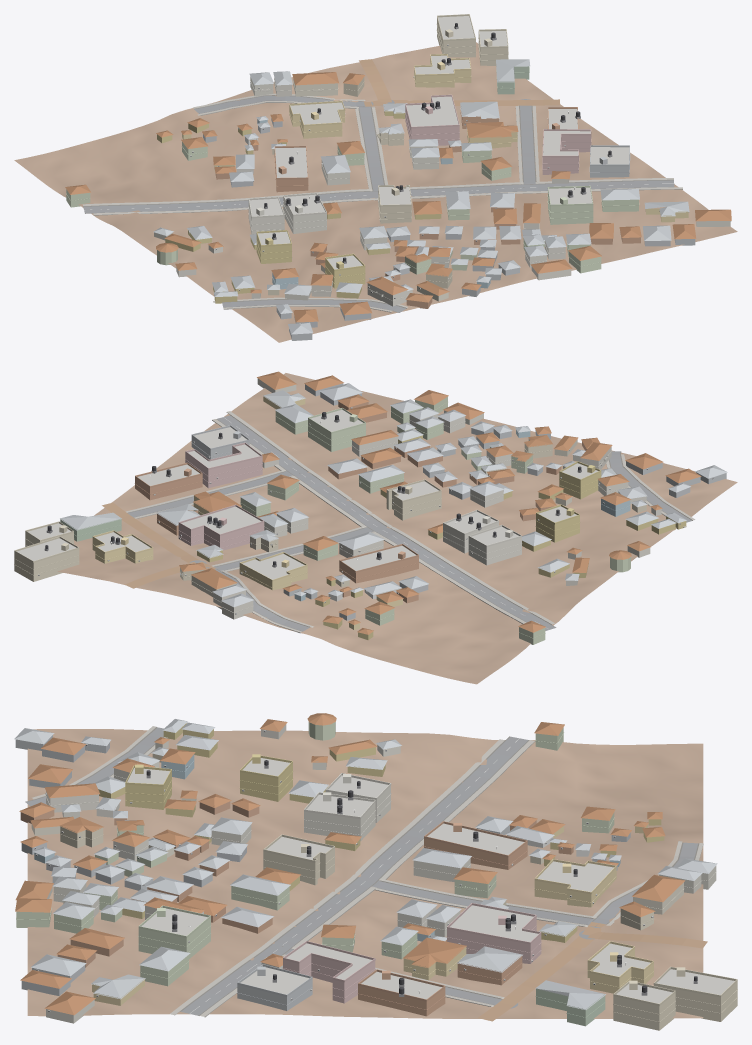
The picture shows the model from 3 angles, top to bottom: view 1: azimuth 30°, elevation 25°; view 2: azimuth 150°, elevation 25°; view 3: azimuth 270°, elevation 25°; orthographic projection. The views are drawn at different scales.
Visible parts, largest first — view 1: Buildings-col, Terrain-col, Roads-col, Details, Sidewalks-col; view 2: Buildings-col, Terrain-col, Details, Roads-col, Sidewalks-col; view 3: Buildings-col, Terrain-col, Roads-col, Details, Sidewalks-col.
Part boxes in pixels (x1,y1,x2,y2): Buildings-col: (65, 16, 731, 340); Terrain-col: (14, 42, 737, 342); Roads-col: (83, 59, 674, 312); Details: (66, 14, 731, 328); Sidewalks-col: (82, 93, 682, 312); Buildings-col: (14, 371, 727, 644); Terrain-col: (57, 373, 737, 684); Details: (14, 402, 713, 638); Roads-col: (102, 415, 692, 631); Sidewalks-col: (126, 411, 695, 633); Buildings-col: (14, 713, 737, 1030); Terrain-col: (27, 729, 703, 1018); Roads-col: (25, 727, 707, 1021); Details: (16, 730, 737, 1022); Sidewalks-col: (32, 726, 703, 1017).
Bounding box in the file's own units: 269 × 20.55 × 274.
